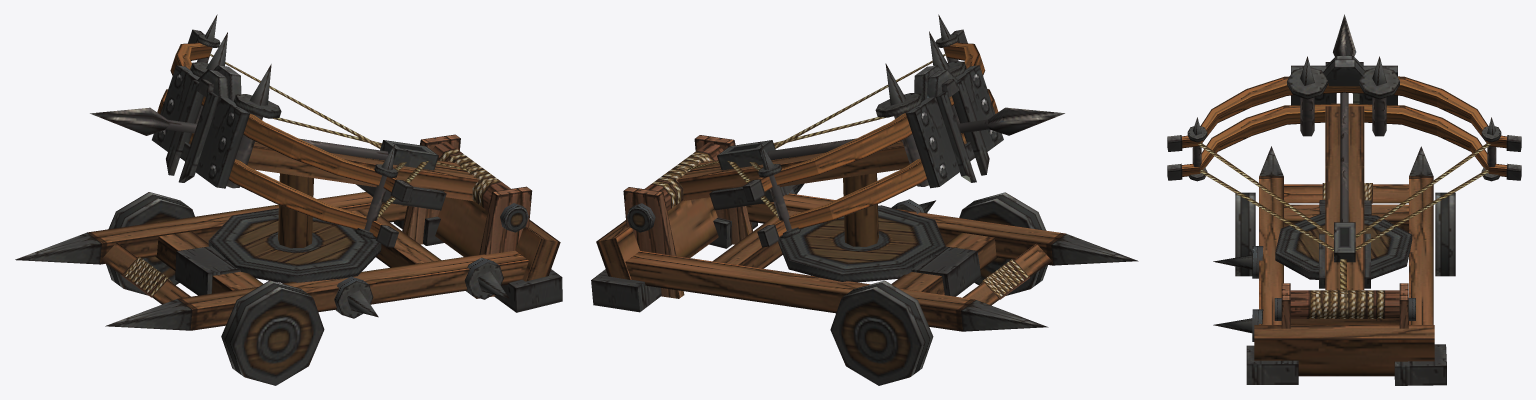
The model's file is 2_WGJ_NuChe_01.FBX.
The picture shows the model from 3 angles, left to right: view 1: azimuth 30°, elevation 25°; view 2: azimuth 150°, elevation 25°; view 3: azimuth 270°, elevation 25°; orthographic projection. The views are drawn at different scales.
Parts seen in each view (by area): view 1: 2_WGJ_NuChe_01, 2_WGJ_NuChe_02; view 2: 2_WGJ_NuChe_01, 2_WGJ_NuChe_02; view 3: 2_WGJ_NuChe_01, 2_WGJ_NuChe_02.
Part boxes in pixels (bbox=[...]): 2_WGJ_NuChe_01: bbox=[90, 14, 532, 298]; 2_WGJ_NuChe_02: bbox=[15, 192, 562, 385]; 2_WGJ_NuChe_01: bbox=[623, 14, 1064, 298]; 2_WGJ_NuChe_02: bbox=[591, 183, 1138, 385]; 2_WGJ_NuChe_01: bbox=[1167, 14, 1521, 328]; 2_WGJ_NuChe_02: bbox=[1213, 146, 1455, 385].
Size of the model in its own units: 927 by 558 by 771.
1 material, 1 textured.
